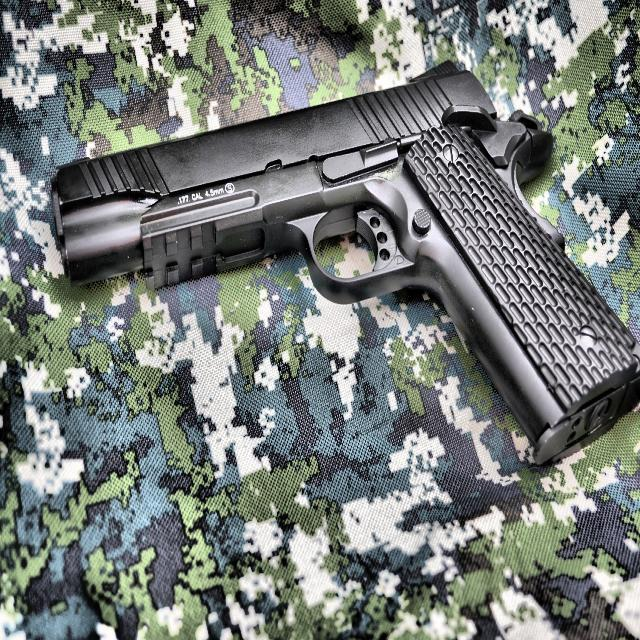Colt m1911: (49, 59, 638, 468)
